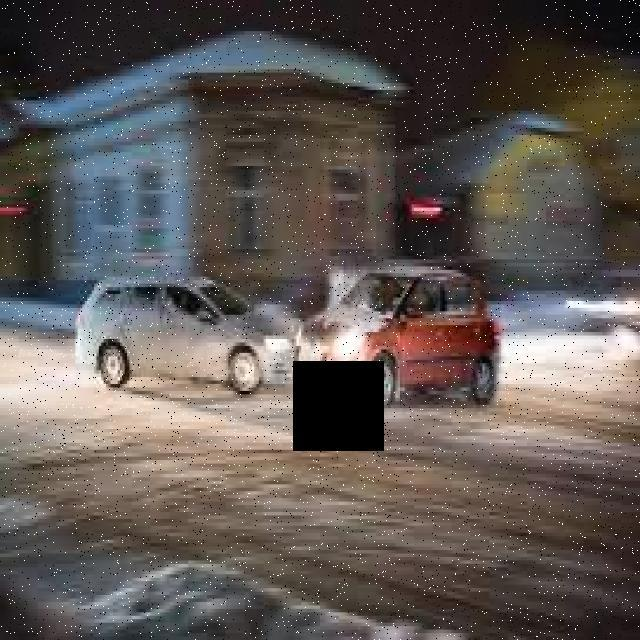moderate: (70, 256, 503, 412)
